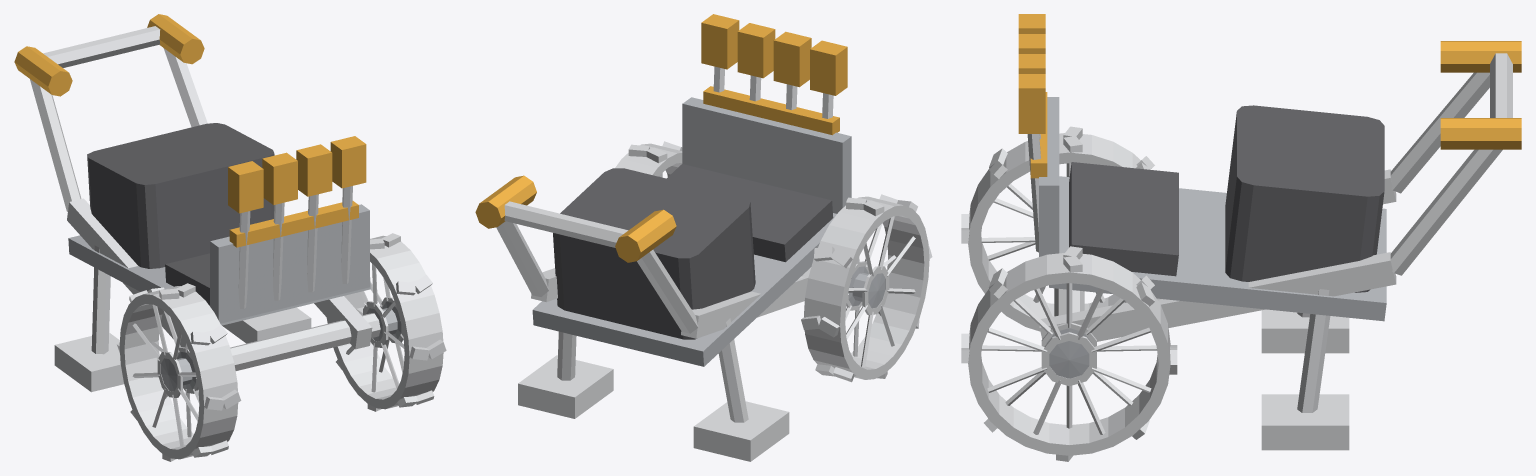
File: eva-tool-cart-3f077d9d.glb
3 renders of one model, left to right at view 1: azimuth 30°, elevation 25°; view 2: azimuth 150°, elevation 25°; view 3: azimuth 270°, elevation 25°, orthographic. The views are drawn at different scales.
Parts seen in each view (by area): view 1: eva-tool-cart, wheel-left (×2), wheel-right (×2); view 2: eva-tool-cart, wheel-left (×2), wheel-right; view 3: eva-tool-cart, wheel-right (×2), wheel-left.
Boxes of the visible parts, x1,y1,x2,y2 form: eva-tool-cart: (14, 14, 380, 392); wheel-left (×2): (117, 283, 241, 461); wheel-right (×2): (326, 233, 446, 411); eva-tool-cart: (475, 14, 851, 461); wheel-left (×2): (801, 194, 932, 382); wheel-right: (615, 141, 682, 177); eva-tool-cart: (1018, 14, 1521, 450); wheel-right (×2): (961, 246, 1177, 461); wheel-left: (961, 126, 1154, 331).
Size of the model in its own units: 0.98 by 1.11 by 1.66.
